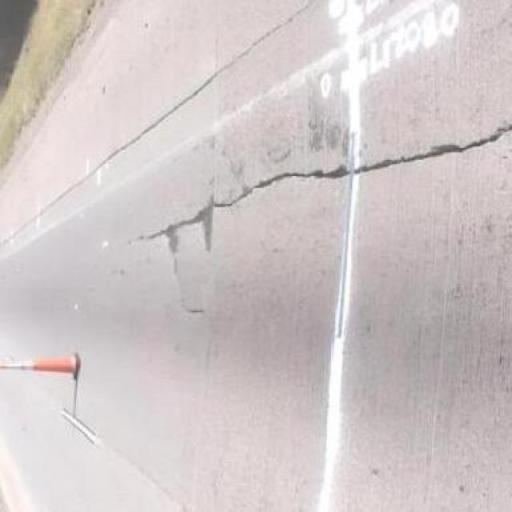severe crack: (2, 171, 240, 270), (192, 213, 227, 508), (218, 160, 339, 201), (69, 3, 101, 46), (492, 147, 512, 197), (208, 188, 246, 210), (314, 160, 355, 180), (199, 327, 212, 384), (123, 229, 162, 246), (200, 204, 214, 247), (175, 294, 206, 313), (158, 222, 179, 244), (339, 126, 352, 155), (105, 261, 128, 277), (227, 155, 243, 177), (35, 210, 42, 232), (497, 353, 504, 366)
